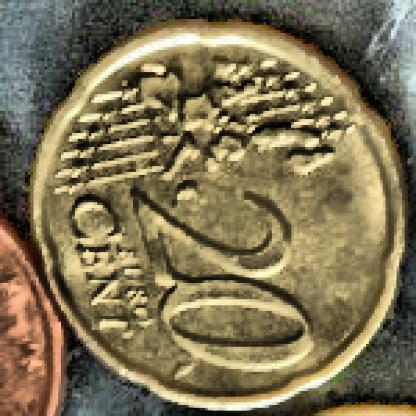coin: (30, 20, 406, 412)
